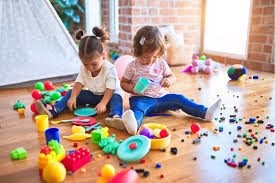child: (118, 22, 225, 136), (58, 27, 126, 128)
